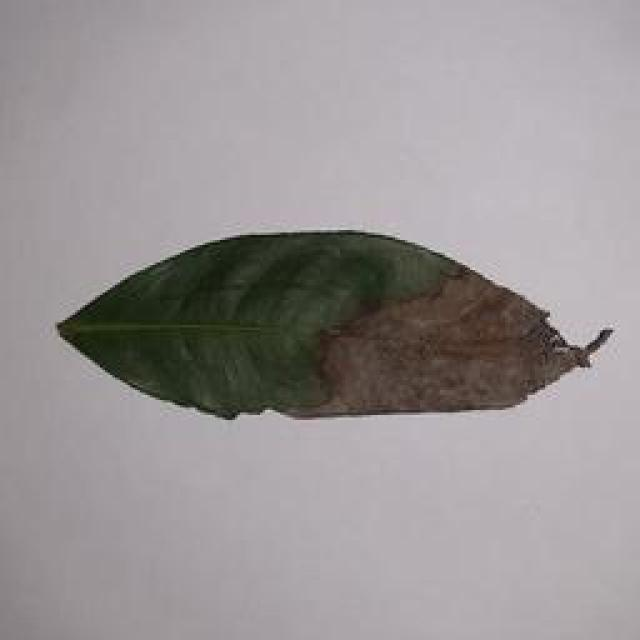Brown Blight: (49, 216, 610, 438)
